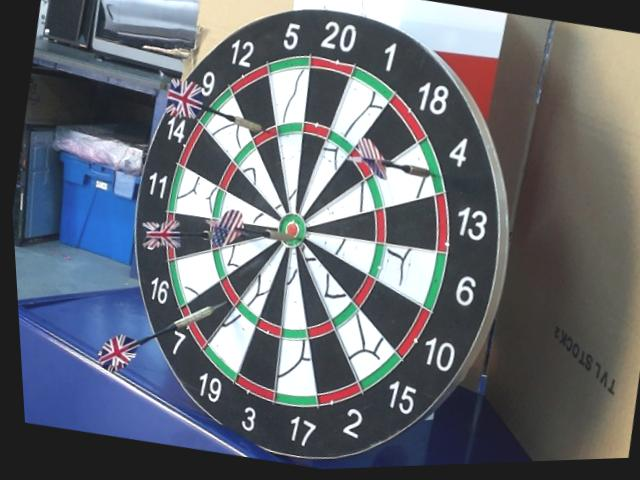bullseye: (269, 213, 306, 248)
double_4: (419, 137, 446, 197)
single_7: (181, 289, 231, 329)
triple_12: (251, 127, 276, 144)
